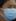with_mask: (1, 2, 16, 21)
